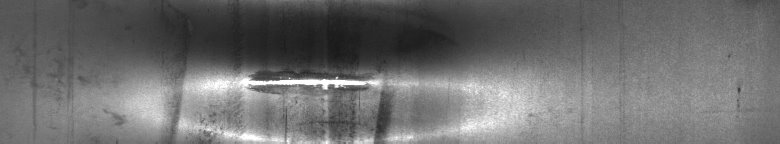ke: (171, 64, 427, 136)
